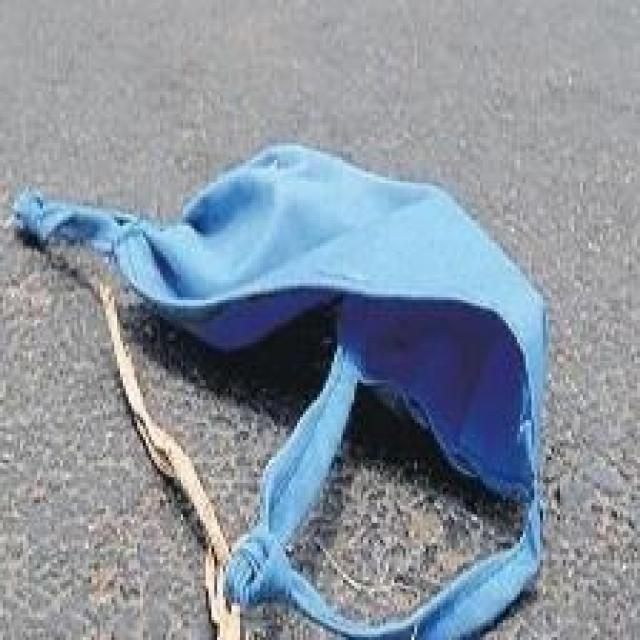Mask: (16, 169, 591, 640)
